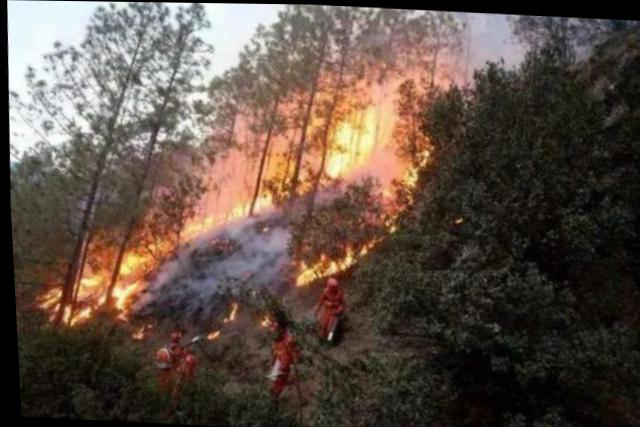fire: (24, 51, 445, 351)
